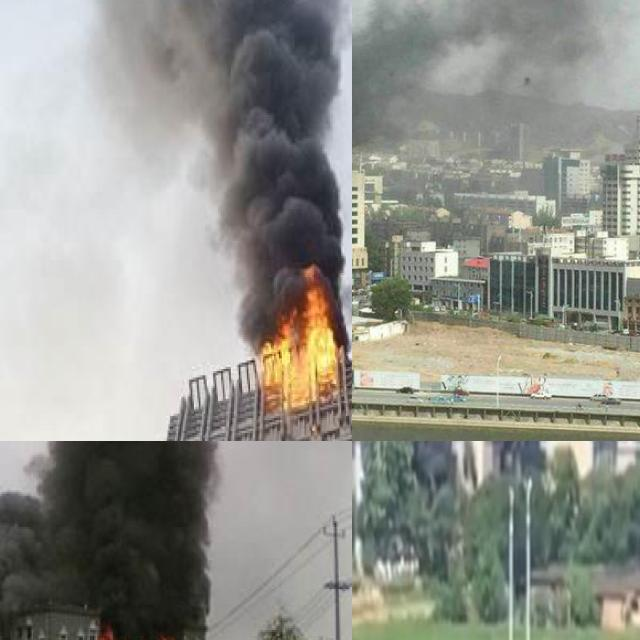fire: (255, 269, 338, 403), (96, 626, 174, 640), (95, 622, 115, 640)
smoke: (93, 0, 352, 313), (352, 0, 640, 162), (0, 441, 229, 640)
